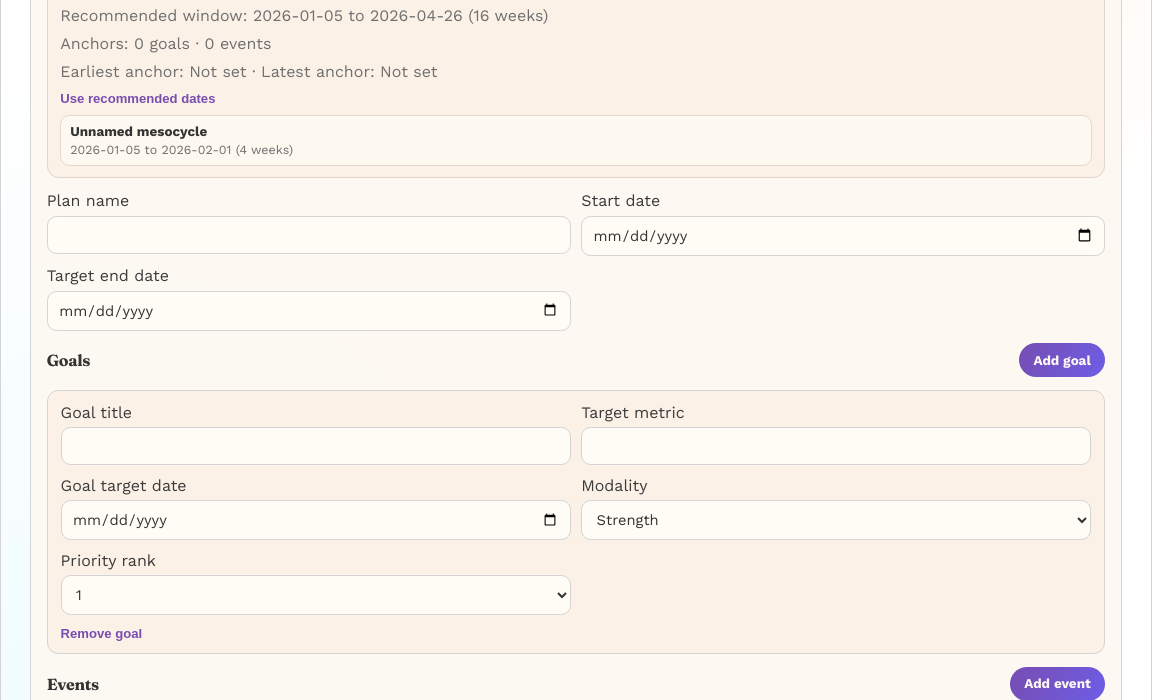
CycleCreationFlow › requires explicit unique priorities for multiple goals
(page scrolled)
Click the button "Add goal". click: (1062, 360)
box: [1019,343,1105,377]
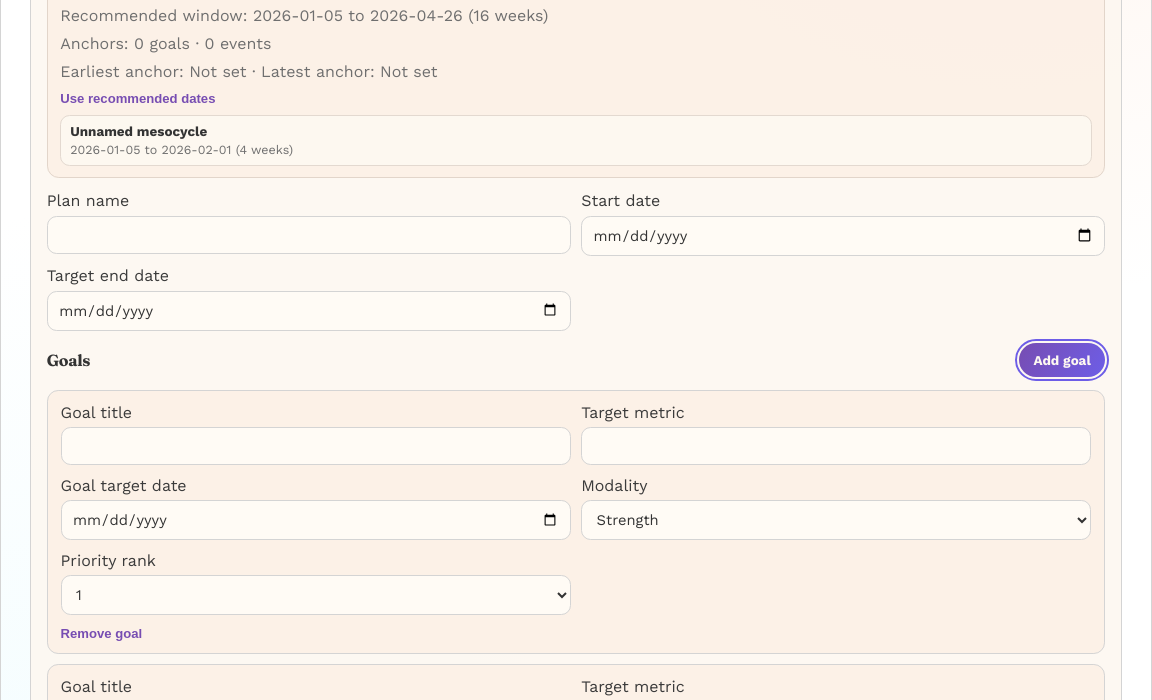
Select "1" in the dropdown labelled "Priority rank". click: (316, 595)
box: [61,575,571,615]
(page scrolled)
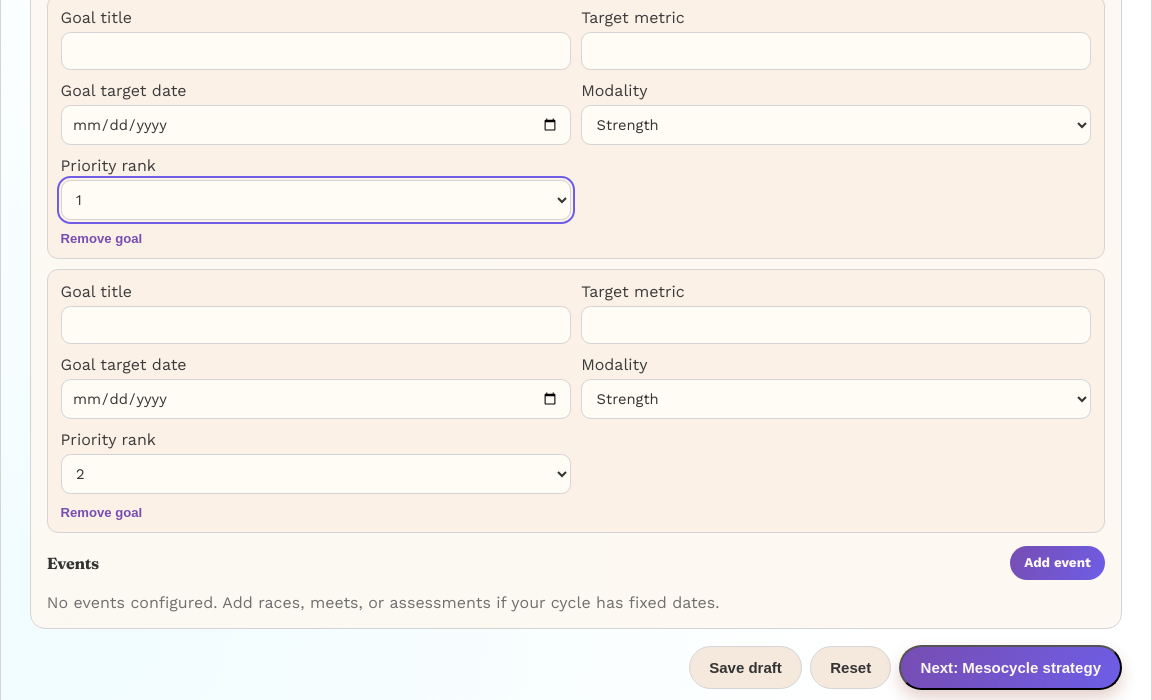
Select "1" in the 2nd dropdown labelled "Priority rank". click: (316, 474)
box: [61,454,571,494]
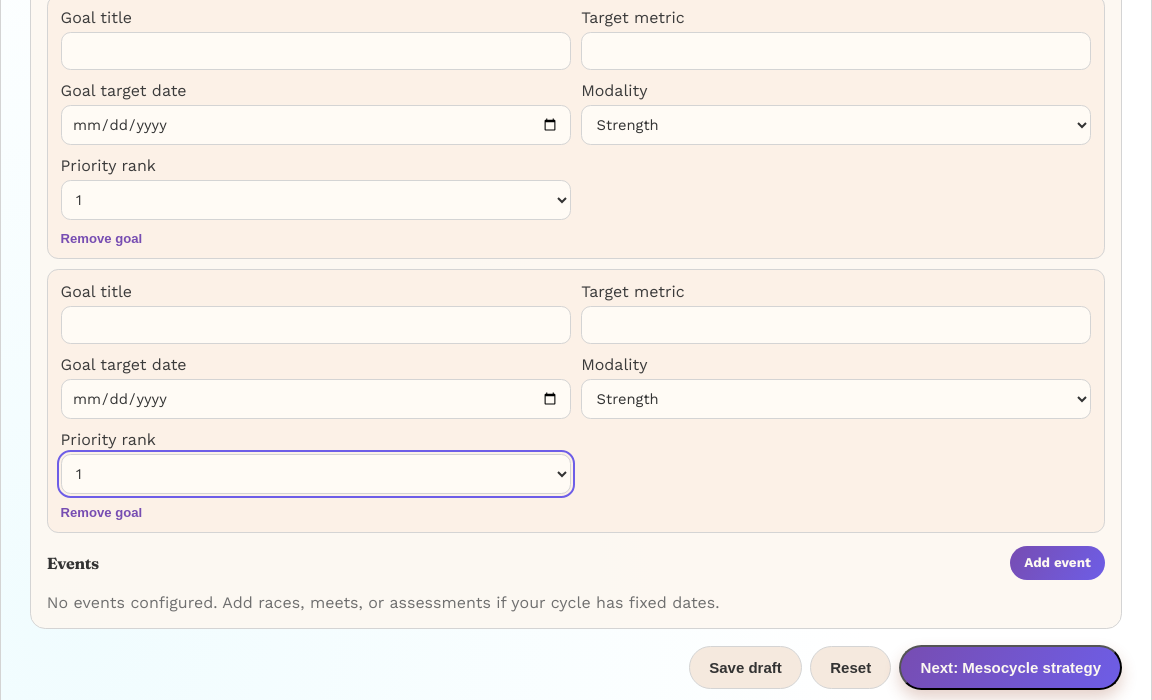
Click the button "Next: Mesocycle strategy". click: (1011, 667)
box: [899,644,1122,690]
(page scrolled)
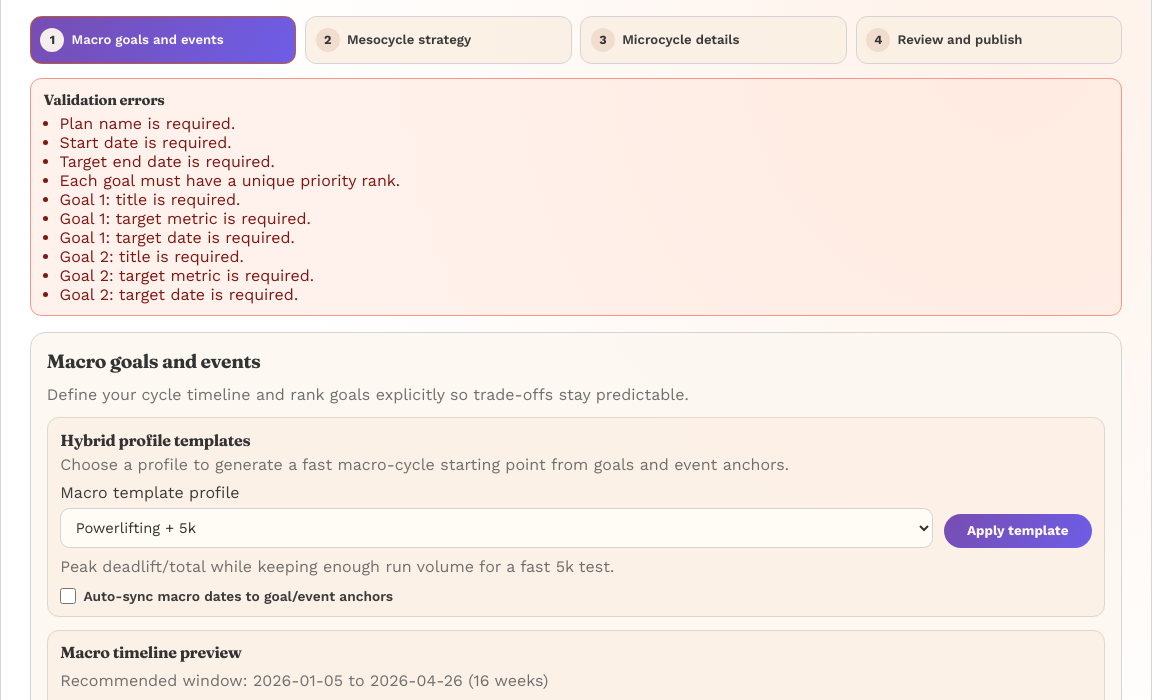
Expected: the heading "Macro goals and events" is shown, [47,348,260,372]
Expected: the list item "Each goal must have a unique priority rank." is shown, [60,171,400,190]
